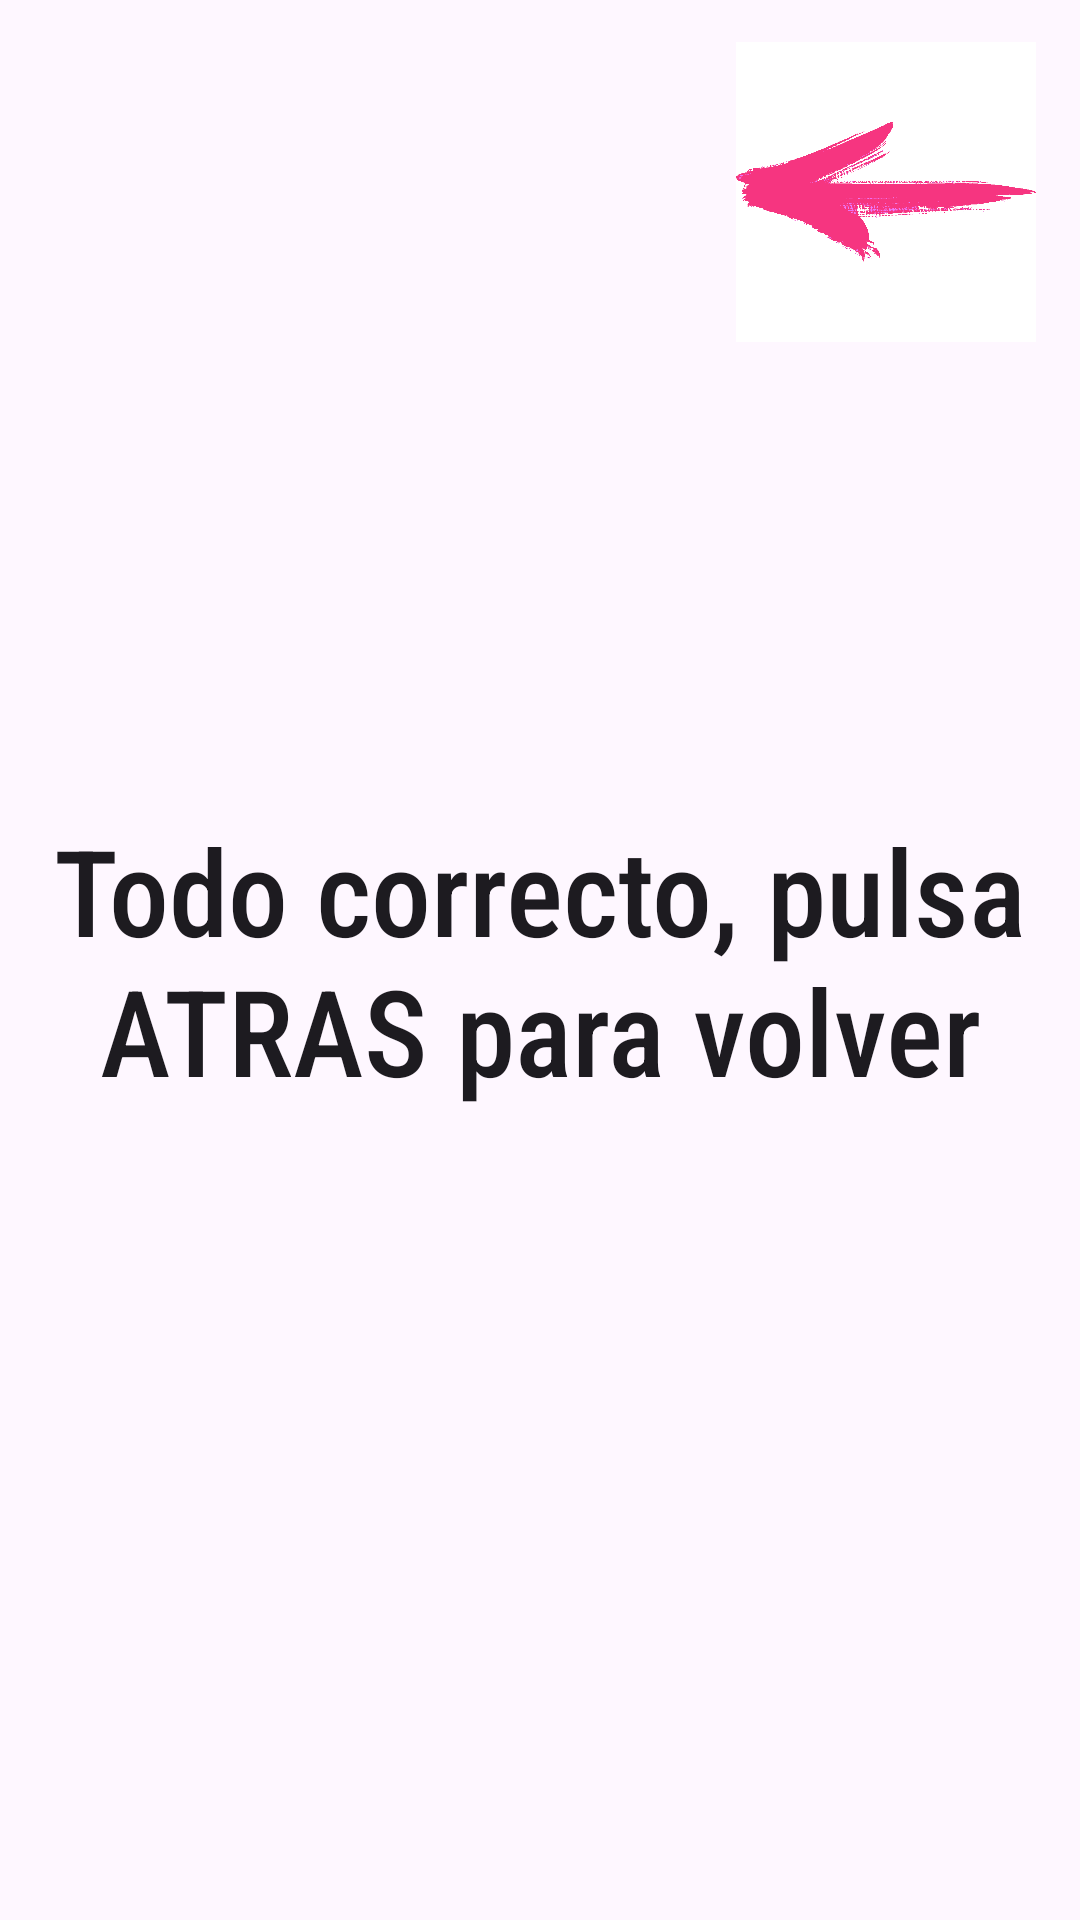

Screen size 1080*1920. Icon name, then its center in pixels as [x,y]:
volver: [886,192]
